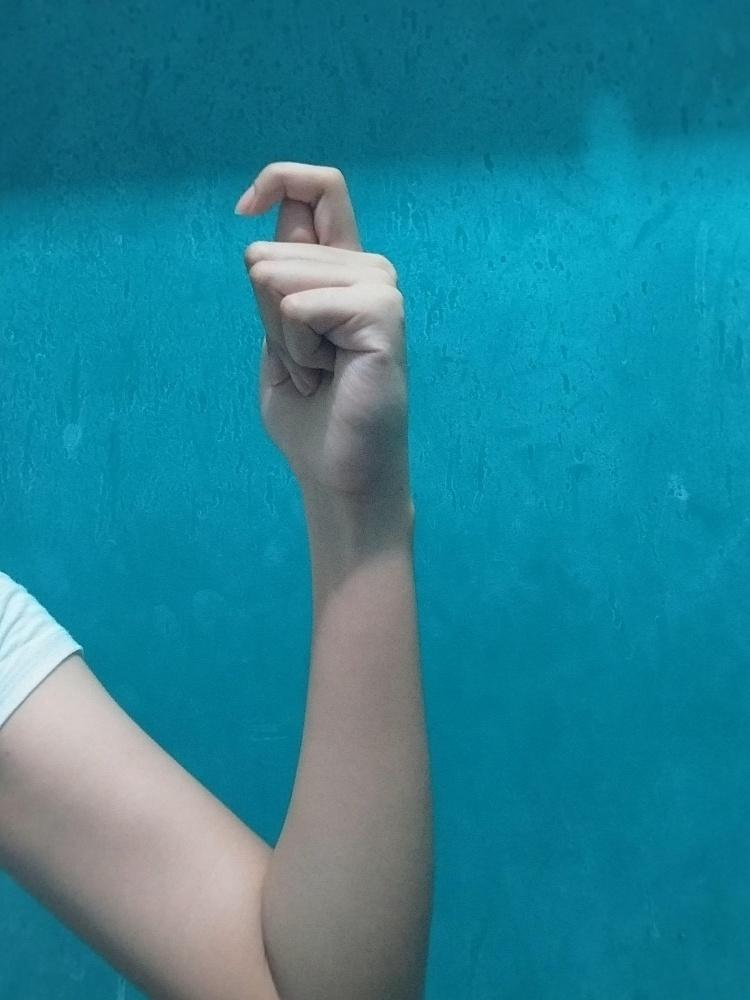t: (231, 158, 412, 494)
